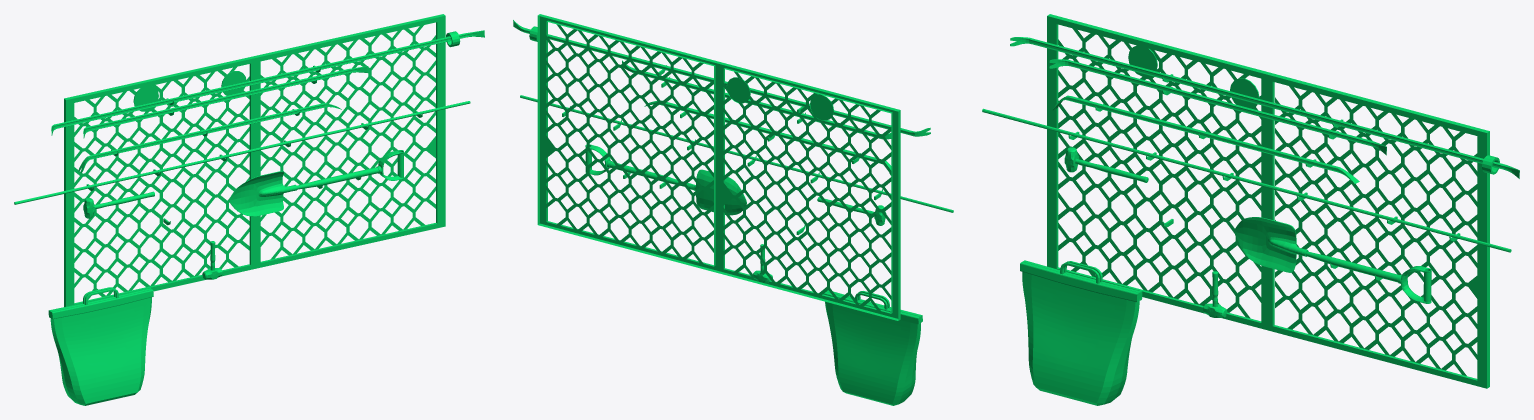
Rendered from Tool Wall.fbx.
The picture shows the model from 3 angles, left to right: view 1: azimuth 30°, elevation 25°; view 2: azimuth 150°, elevation 25°; view 3: azimuth 330°, elevation 25°; orthographic projection. The views are drawn at different scales.
Visible parts, largest first — view 1: Tool rack.001; view 2: Tool rack.001; view 3: Tool rack.001.
Part boxes in pixels (x1,y1,x2,y2): Tool rack.001: (14, 14, 484, 405); Tool rack.001: (513, 14, 953, 405); Tool rack.001: (982, 14, 1519, 405).
Size of the model in its own units: 195 by 123 by 13.59.
